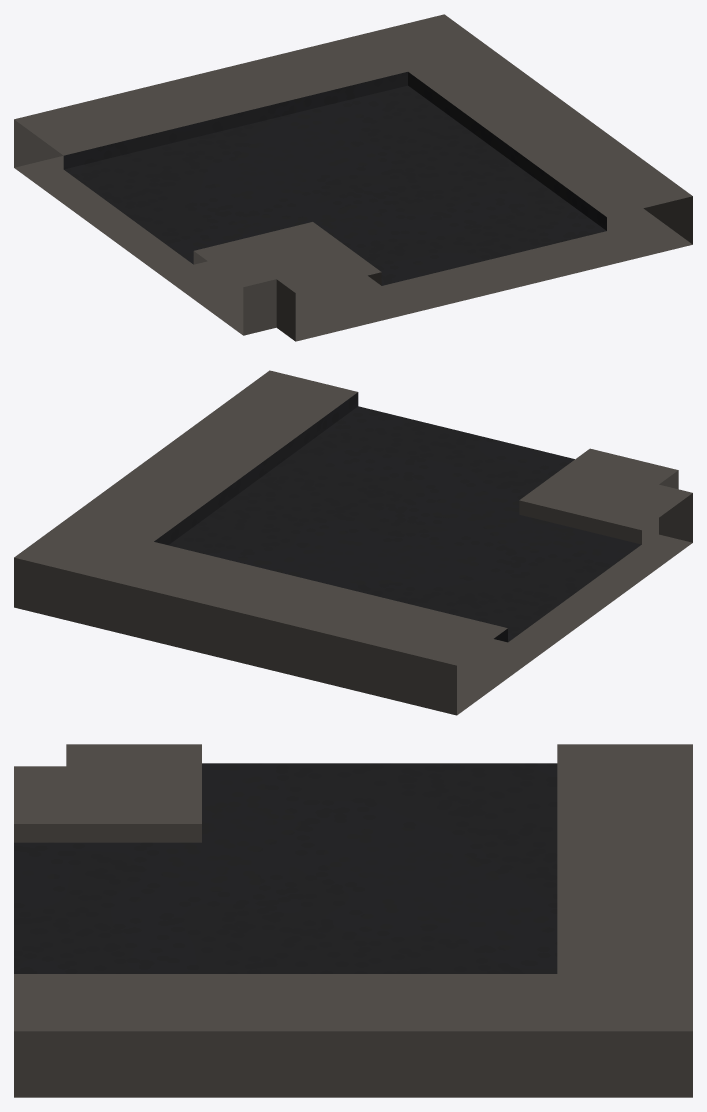
The model's file is Crossroad_Corner.fbx.
The picture shows the model from 3 angles, top to bottom: view 1: azimuth 30°, elevation 25°; view 2: azimuth 150°, elevation 25°; view 3: azimuth 270°, elevation 25°; orthographic projection. The views are drawn at different scales.
Parts seen in each view (by area): view 1: Crossroad.003; view 2: Crossroad.003; view 3: Crossroad.003.
Part boxes in pixels (bbox=[...]): Crossroad.003: bbox=[14, 14, 692, 341]; Crossroad.003: bbox=[14, 370, 692, 715]; Crossroad.003: bbox=[14, 744, 692, 1097].
Size of the model in its own units: 650 by 70 by 650.
